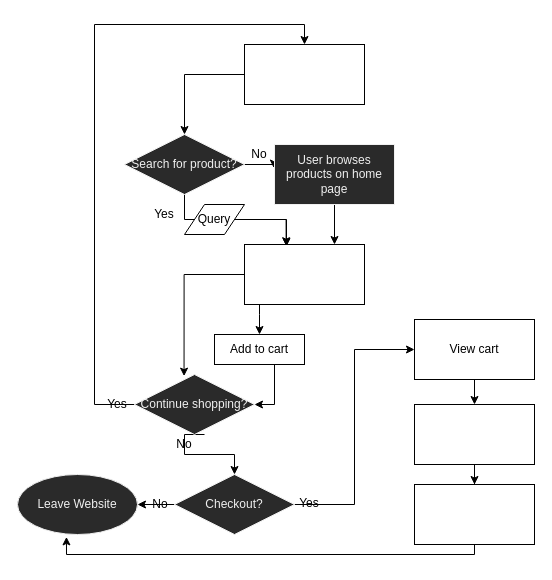
Image size: 552x580. Some labels were removed from this diagram. The shapes that lost their labels are listed below. From the top down, each one's centre as x and y in pixels, then its label:
At point (304, 74): "User enters home page".
At point (304, 274): "User clicks on product".
At point (474, 434): "View payment".
At point (474, 514): "Confirmation page + send email".
